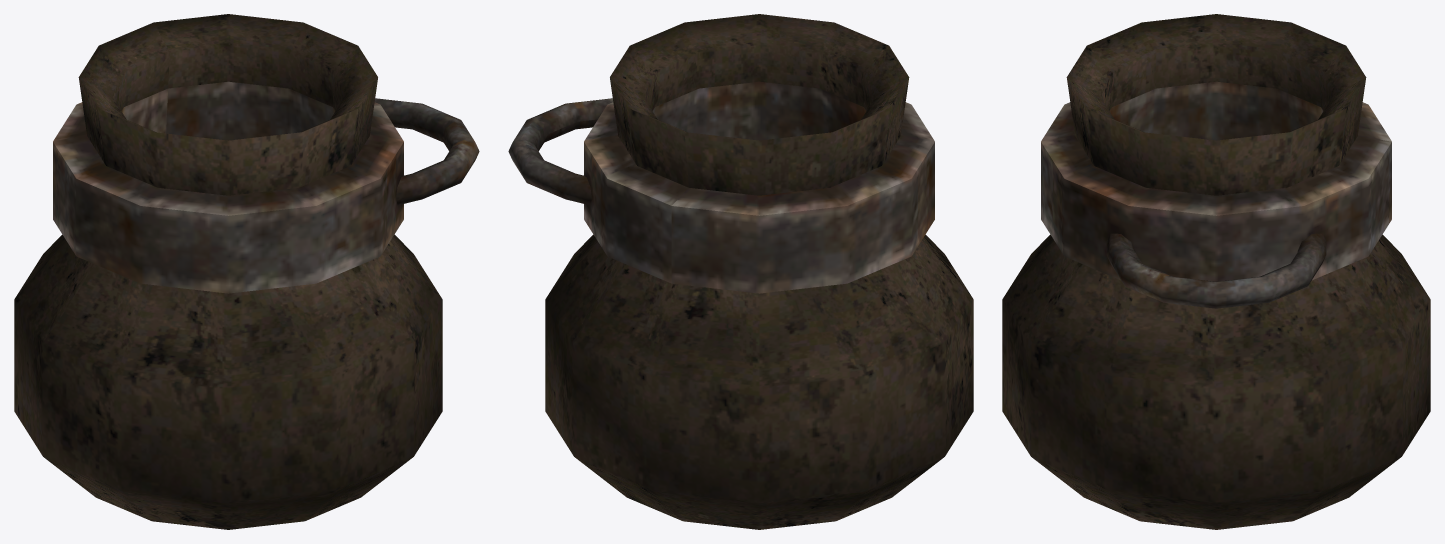
The model's file is liquid_jar_blue.dae.
3 renders of one model, left to right at view 1: azimuth 30°, elevation 25°; view 2: azimuth 150°, elevation 25°; view 3: azimuth 270°, elevation 25°, orthographic.
Visible parts, largest first — view 1: polySurface20, polySurface19; view 2: polySurface20, polySurface19; view 3: polySurface20, polySurface19.
Boxes of the visible parts, <box> form: polySurface20: <box>14,14,442,529</box>; polySurface19: <box>53,81,479,293</box>; polySurface20: <box>545,14,973,529</box>; polySurface19: <box>508,81,934,293</box>; polySurface20: <box>1002,14,1430,529</box>; polySurface19: <box>1041,81,1391,308</box>.
Bounding box in the file's own units: 0.5174 × 0.4549 × 0.4549.
